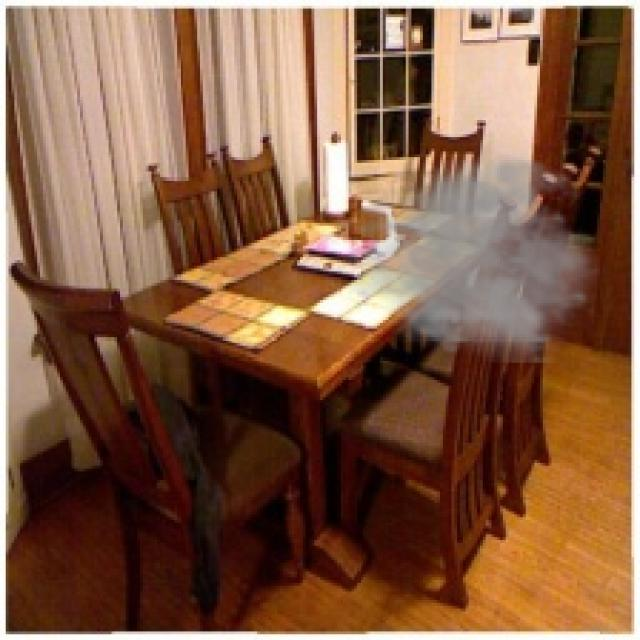smoke: (346, 140, 606, 363)
